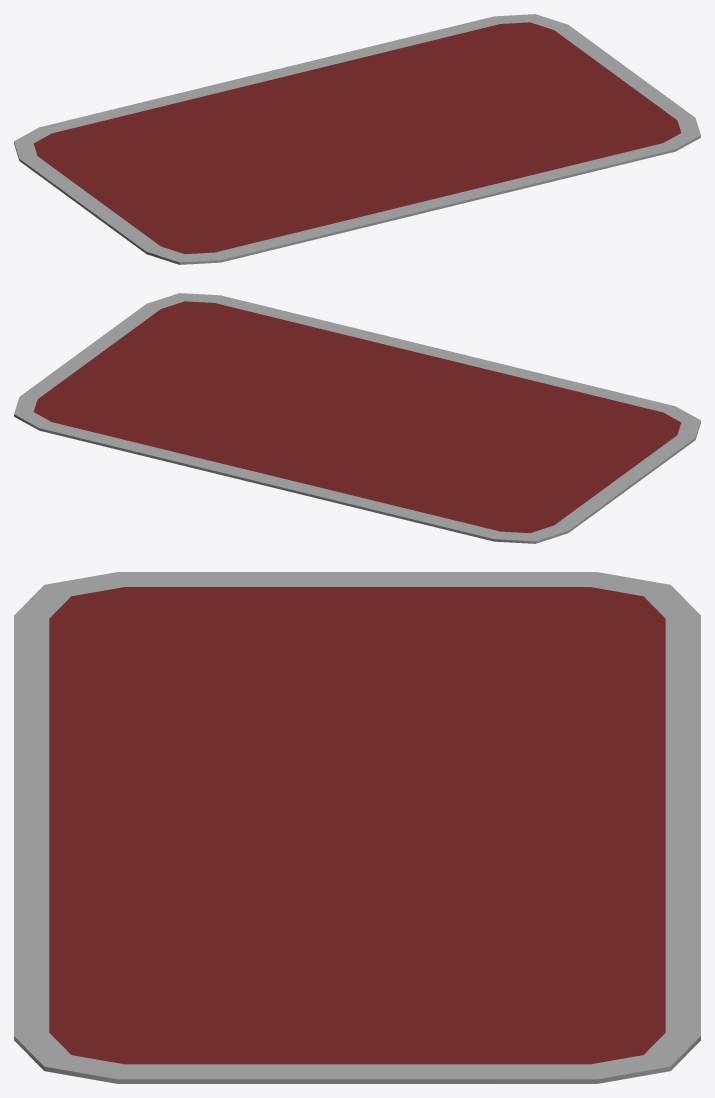
The model's file is Rug.fbx.
3 renders of one model, top to bottom at view 1: azimuth 30°, elevation 25°; view 2: azimuth 150°, elevation 25°; view 3: azimuth 270°, elevation 25°, orthographic. The views are drawn at different scales.
Parts seen in each view (by area): view 1: pCube64; view 2: pCube64; view 3: pCube64.
Part boxes in pixels (x1,y1,x2,y2): pCube64: (14,14,700,264); pCube64: (14,293,700,543); pCube64: (14,572,700,1083).
Size of the model in its own units: 237 by 1 by 136.
